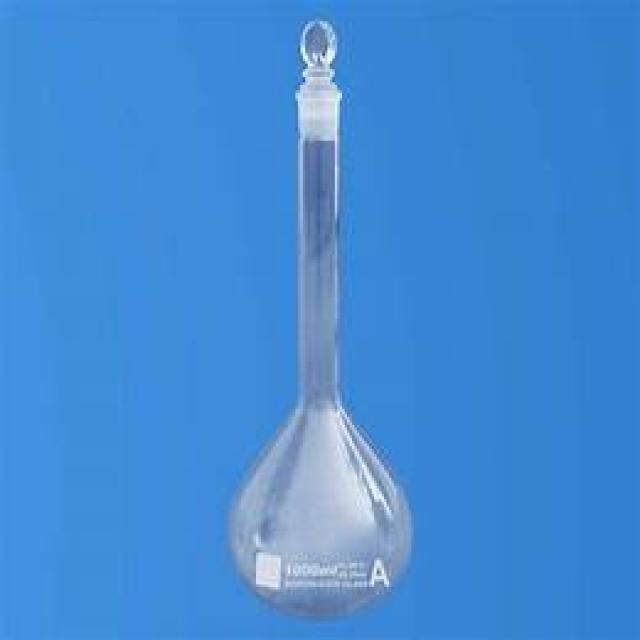Volumetric flask: (229, 17, 421, 613)
